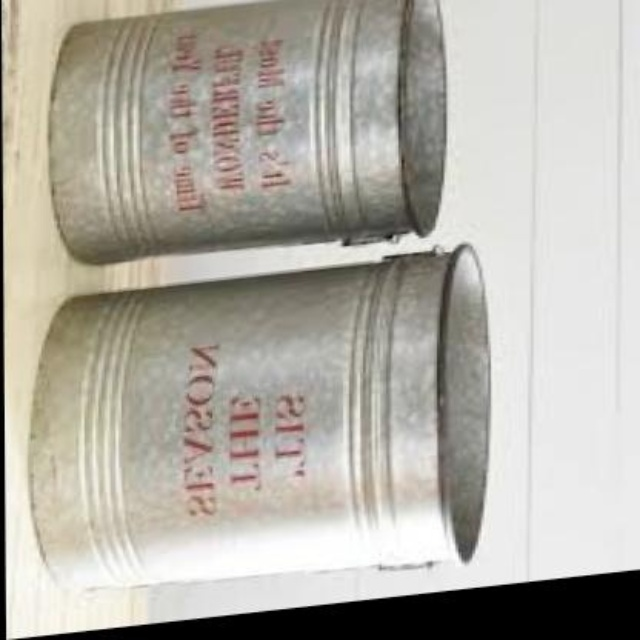trash: (31, 246, 488, 583), (49, 0, 445, 262)
